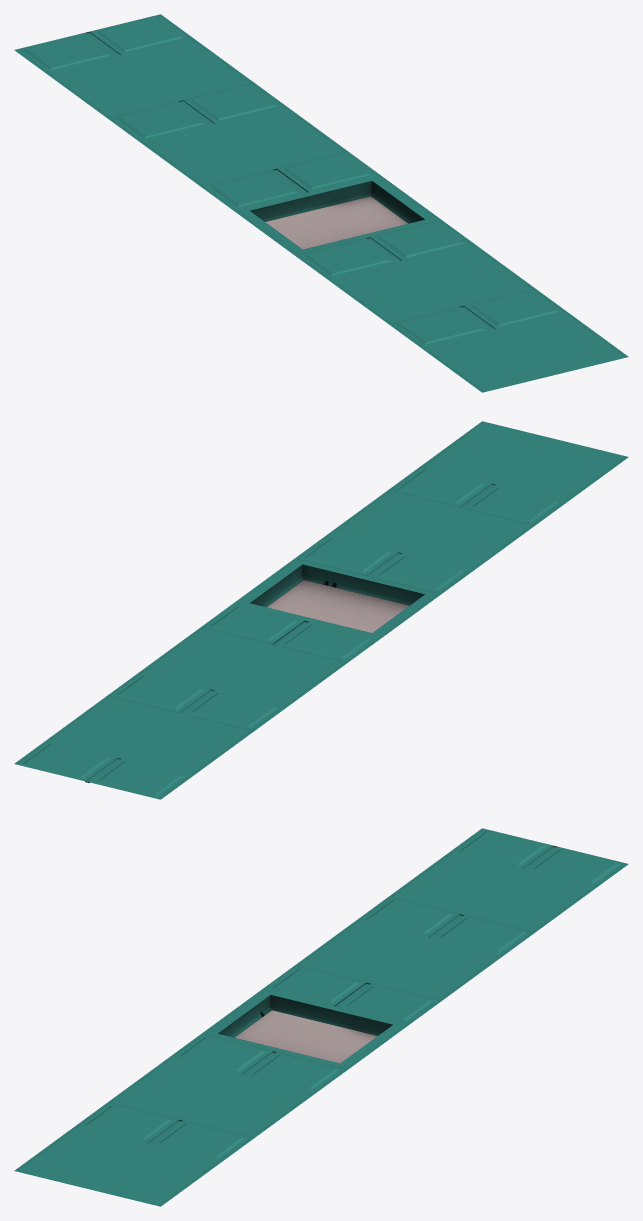
Rendered from sc_lvl1_floortile_12.FBX.
The picture shows the model from 3 angles, top to bottom: view 1: azimuth 30°, elevation 25°; view 2: azimuth 150°, elevation 25°; view 3: azimuth 330°, elevation 25°; orthographic projection.
Parts seen in each view (by area): view 1: sc_lvl1_floortile_12; view 2: sc_lvl1_floortile_12; view 3: sc_lvl1_floortile_12.
Part boxes in pixels (x1,y1,x2,y2): sc_lvl1_floortile_12: [14, 14, 628, 392]; sc_lvl1_floortile_12: [14, 421, 628, 799]; sc_lvl1_floortile_12: [14, 828, 628, 1206].
Bounding box in the file's own units: 18.1 × 1.79 × 100.
